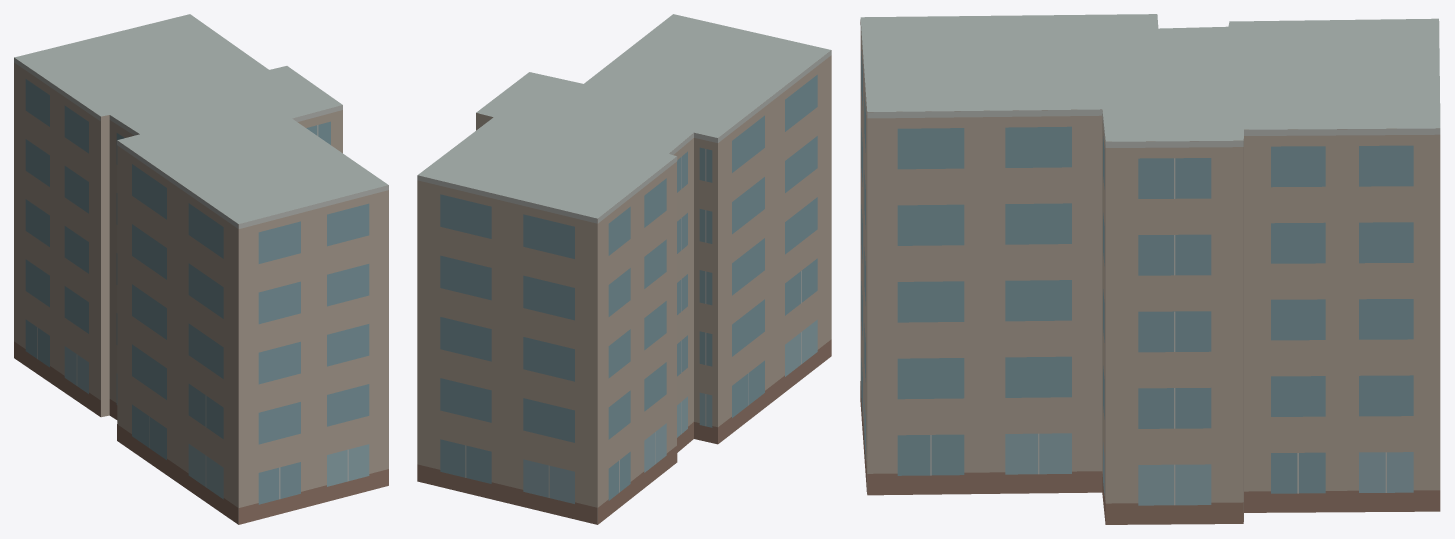
File: survey-upis-33005110.glb
The picture shows the model from 3 angles, left to right: view 1: azimuth 30°, elevation 25°; view 2: azimuth 150°, elevation 25°; view 3: azimuth 270°, elevation 25°; orthographic projection. The views are drawn at different scales.
Visible parts, largest first — view 1: survey-upis-33005110.tmp; view 2: survey-upis-33005110.tmp; view 3: survey-upis-33005110.tmp.
Boxes of the visible parts, bbox=[...] form: survey-upis-33005110.tmp: bbox=[14, 14, 388, 524]; survey-upis-33005110.tmp: bbox=[417, 14, 831, 524]; survey-upis-33005110.tmp: bbox=[860, 14, 1440, 524].
Bounding box in the file's own units: 10.52 × 14.7 × 20.18.
